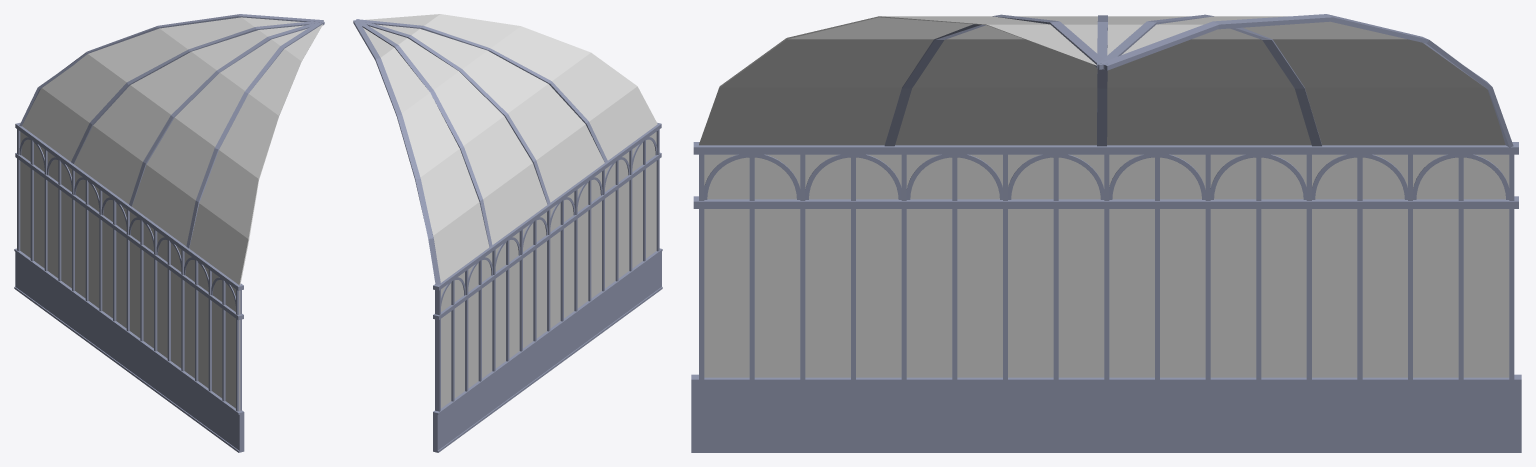
The model's file is Wall.fbx.
The picture shows the model from 3 angles, left to right: view 1: azimuth 30°, elevation 25°; view 2: azimuth 150°, elevation 25°; view 3: azimuth 270°, elevation 25°; orthographic projection. The views are drawn at different scales.
Parts seen in each view (by area): view 1: 立方体.004; view 2: 立方体.004; view 3: 立方体.004.
Boxes of the visible parts, x1=… form: 立方体.004: x1=14, y1=14, x2=324, y2=452; 立方体.004: x1=353, y1=14, x2=662, y2=452; 立方体.004: x1=691, y1=14, x2=1521, y2=452.
Bounding box in the file's own units: 4162 × 6100 × 8200.
